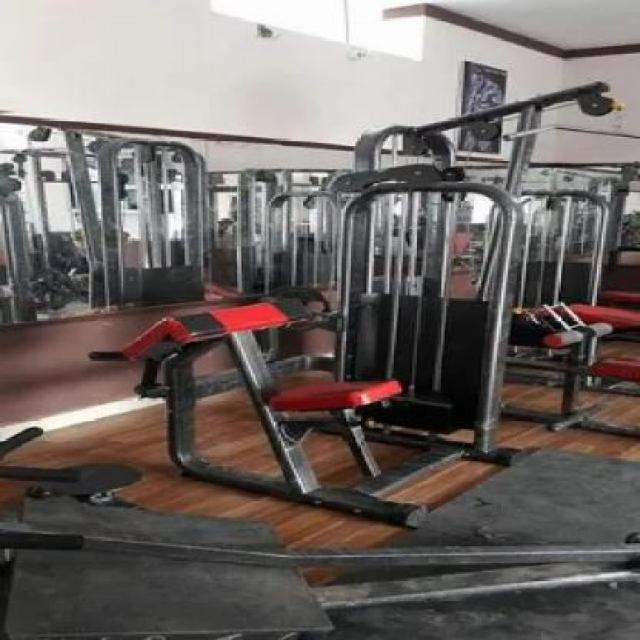arm curl machine: (86, 294, 534, 528)
